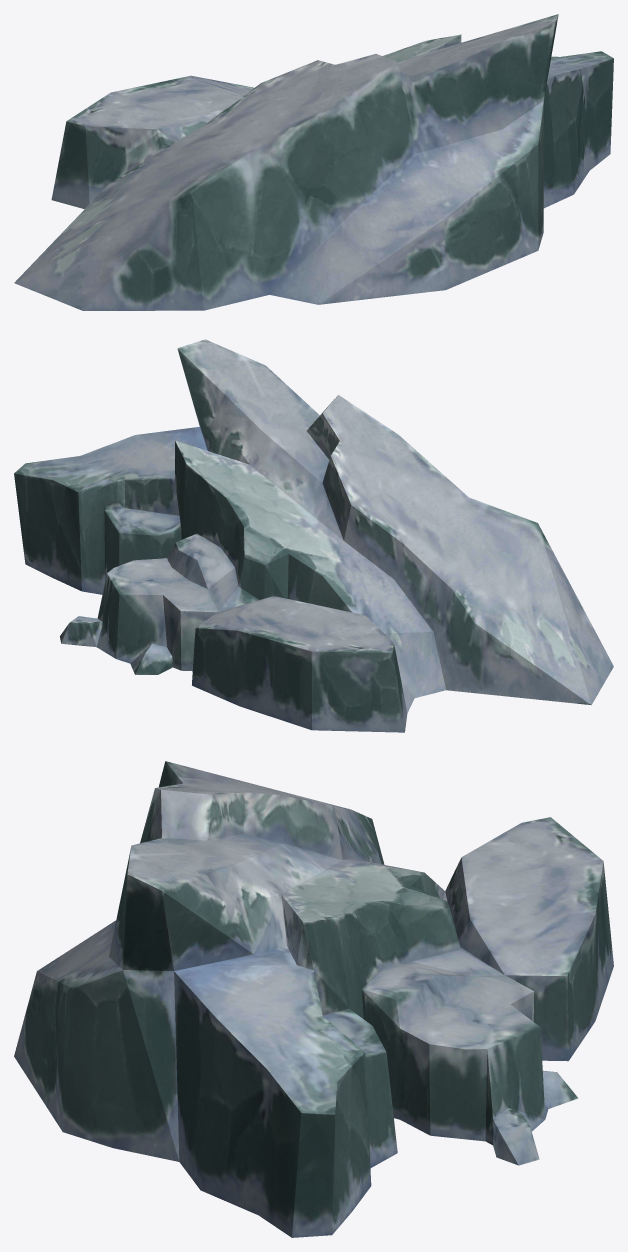
Rendered from map_114_shitou_5.fbx.
The picture shows the model from 3 angles, top to bottom: view 1: azimuth 30°, elevation 25°; view 2: azimuth 150°, elevation 25°; view 3: azimuth 270°, elevation 25°; orthographic projection. The views are drawn at different scales.
Parts seen in each view (by area): view 1: map_114_shitou_5; view 2: map_114_shitou_5; view 3: map_114_shitou_5.
Part boxes in pixels (bbox=[...]): map_114_shitou_5: bbox=[14, 14, 613, 310]; map_114_shitou_5: bbox=[14, 339, 613, 732]; map_114_shitou_5: bbox=[14, 761, 613, 1237].
Size of the model in its own units: 5.39 by 1.77 by 3.38.
